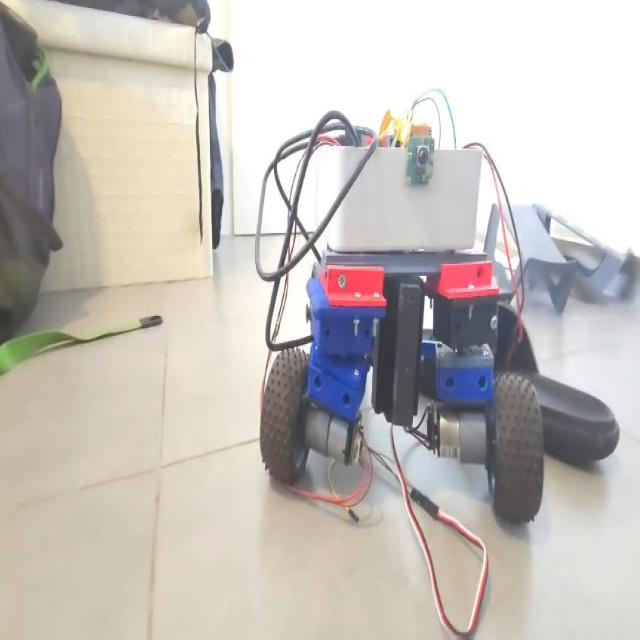Robot: (256, 80, 550, 538)
